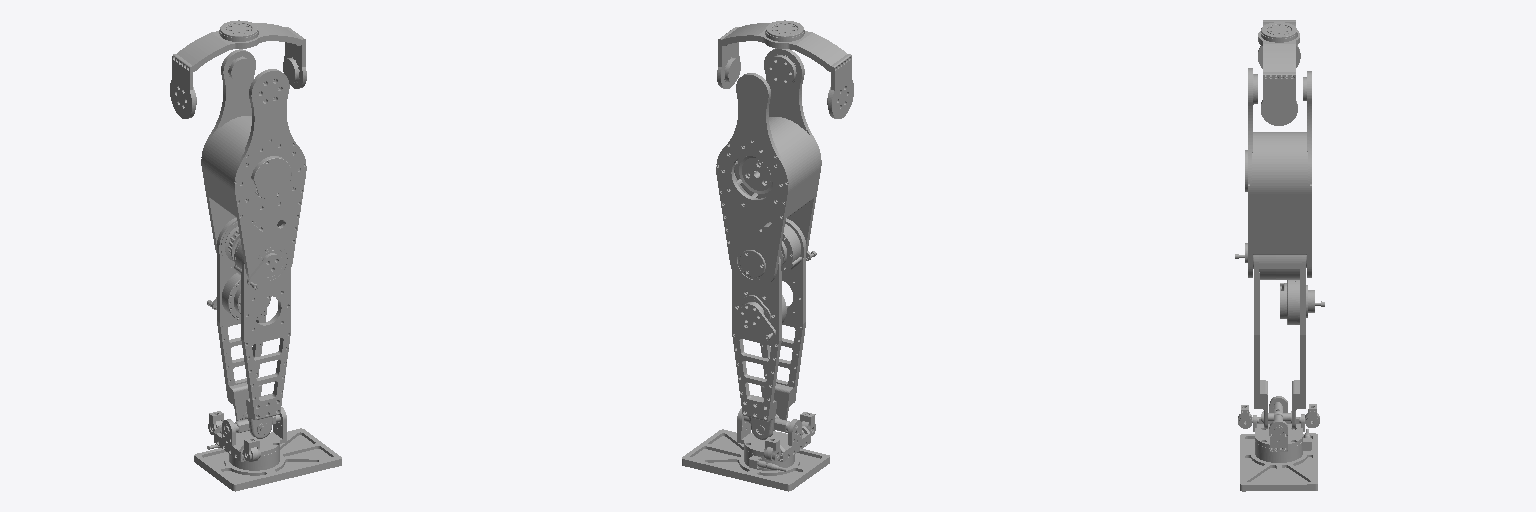
The robot description file, URDF, robot "total_robot_nl":
<?xml version="1.0" ?>
<robot name="total_robot_nl" xmlns:xacro="http://www.ros.org/wiki/xacro">
<!-- 
<link name = "base_link">
  <inertial>
    <origin xyz="0 0 0" rpy="0 0 0"/>
    <mass value="0"/>
    <inertia ixx="0" iyy="0" izz="0" ixy="0" iyz="0" ixz="0"/>
  </inertial>
  <visual>
    <origin xyz="0 0 0" rpy="0 0 0"/>
    <geometry>
      <box size="0.01 0.01 0.01"/>
    </geometry>
  </visual>
</link> -->
<link name="world"/>
  
<link name="base_link">
  <inertial>
    <origin xyz="-0.0032551439878857943 -1.9999997873110242e-07 -0.04529620573945425" rpy="0 0 0"/>
    <mass value="0.6322493948478245"/>
    <inertia ixx="0.001017" iyy="0.004505" izz="0.003813" ixy="-0.0" iyz="-0.0" ixz="-0.000121"/>
  </inertial>
  <visual>
    <origin xyz="0.015291 -0.105 -0.007699" rpy="0 0 0"/>
    <geometry>
      <mesh filename="package://ik_test/meshes/left_yaw_1_1_1.stl" scale="0.001 0.001 0.001"/>
    </geometry>
    <material name="silver">
      <color rgba="0.700 0.700 0.700 1.000"/>
    </material>
  </visual>
</link>

<link name="left_hip_rp_1_1_1">
  <!-- <inertial>
    <origin xyz="0.197224872 0.0019294190715901938 9.221403702634745e-05" rpy="0 0 0"/>
    <mass value="3.4935634589938322"/>
    <inertia ixx="0.004865" iyy="0.013016" izz="0.012468" ixy="-0.000209" iyz="2.4e-05" ixz="-3.8e-05"/>
  </inertial> -->
  <inertial>
    <origin xyz="-0.000275128 0.0019294190715901938 9.221403702634745e-05" rpy="0 0 0"/>
    <mass value="3.4935634589938322"/>
    <inertia ixx="0.004865" iyy="0.013016" izz="0.012468" ixy="-0.000209" iyz="2.4e-05" ixz="-3.8e-05"/>
  </inertial>
  <visual>
    <origin xyz="0.015291 -0.105 0.088357" rpy="0 0 0"/>
    <geometry>
      <mesh filename="package://ik_test/meshes/left_hip_rp_1_1_1.stl" scale="0.001 0.001 0.001"/>
    </geometry>
    <material name="silver">
      <color rgba="0.700 0.700 0.700 1.000"/>
    </material>
  </visual>
</link>

<link name="left_upper_link_1_1_1">
  <inertial>
    <origin xyz="0.0005368519739045955 -0.013754235 -0.15022534580925995" rpy="0 0 0"/>
    <mass value="3.2234265717066637"/>
    <inertia ixx="0.017939" iyy="0.016979" izz="0.00754" ixy="-2.3e-05" iyz="0.000318" ixz="0.000252"/>
  </inertial>
  <visual>
    <origin xyz="-0.012959 -0.11025 0.088358" rpy="0 0 0"/>
    <geometry>
      <mesh filename="package://ik_test/meshes/left_upper_link_1_1_1.stl" scale="0.001 0.001 0.001"/>
    </geometry>
    <material name="silver">
      <color rgba="0.700 0.700 0.700 1.000"/>
    </material>
  </visual>
  <collision>
    <geometry>
      <sphere radius="0.06"/> 
    </geometry>
    <origin xyz="0 0.00075 -0.3" rpy="0 0 0"/>
  </collision>
</link>

<link name="left_lower_link_1_1_1">
  <inertial>
    <origin xyz="4.6165273849790855e-05 0.006328049 -0.07736569907214441" rpy="0 0 0"/>
    <mass value="2.17378151180509"/>
    <inertia ixx="0.020231" iyy="0.018702" izz="0.003549" ixy="-3e-06" iyz="0.000559" ixz="-3.7e-05"/>
  </inertial>
  <visual>
    <origin xyz="-0.012959 -0.106762 0.388359" rpy="0 0 0"/>
    <geometry>
      <mesh filename="package://ik_test/meshes/left_lower_link_1_1_1.stl" scale="0.001 0.001 0.001"/>
    </geometry>
    <material name="silver">
      <color rgba="0.700 0.700 0.700 1.000"/>
    </material>
  </visual>
</link>

<link name="left_ankle_1_1_1">
  <inertial>
    <origin xyz="-5.379963106347946e-07 -0.000000102 2.7555327962835996e-05" rpy="0 0 0"/>
    <mass value="0.09508662408365151"/>
    <inertia ixx="1.3e-05" iyy="6.1e-05" izz="6.9e-05" ixy="-0.0" iyz="0.0" ixz="0.0"/>
  </inertial>
  <visual>
    <origin xyz="-0.012959 -0.110275 0.688358" rpy="0 0 0"/>
    <geometry>
      <mesh filename="package://ik_test/meshes/left_ankle_1_1_1.stl" scale="0.001 0.001 0.001"/>
    </geometry>
    <material name="silver">
      <color rgba="0.700 0.700 0.700 1.000"/>
    </material>
  </visual>
</link>

<link name="left_foot_1_1_1">
  <inertial>
    <origin xyz="0.005144916 0.001279712439850464 -0.05369204517562853" rpy="0 0 0"/>
    <mass value="0.7654264928180347"/>
    <inertia ixx="0.001068" iyy="0.001832" izz="0.002288" ixy="1.2e-05" iyz="-6e-06" ixz="0.000215"/>
  </inertial>
  <visual>
    <origin xyz="-0.012959 -0.110275 0.688357" rpy="0 0 0"/>
    <geometry>
      <mesh filename="package://ik_test/meshes/left_foot_1_1_1.stl" scale="0.001 0.001 0.001"/>
    </geometry>
    <material name="silver">
      <color rgba="0.700 0.700 0.700 1.000"/>
    </material>
  </visual>
  <collision>
    <geometry>
      <box size="0.2 0.13 0.012"/>
    </geometry>
    <origin xyz="0.025 0.0005 -0.071" rpy="0.0079 0 0"/>
  </collision>
</link>




<!-- <joint name="base_joint" type="prismatic">
  <origin xyz="0 0 0" rpy="0 0 0"/>
  <parent link="base_link"/>
  <child link="left_yaw_1_1_1"/>
  <axis xyz="0.0 0.0 1.0"/>
  <limit upper="0" lower="0" effort="100" velocity="1000"/>
</joint> -->

<joint name="base_joint" type="revolute">
  <parent link="world"/>
  <child link="base_link"/>
  <origin xyz="0 0 0" rpy="0 0 0"/>
  <axis xyz="0.0 0.0 1.0"/>
  <limit upper="1.570796" lower="-1.570796" effort="40" velocity="4.188790204786399"/>
</joint>

<joint name="hip_roll_left" type="revolute">
  <origin xyz="0.0 0.0 -0.096056" rpy="0 0 0"/>
  <parent link="base_link"/>
  <child link="left_hip_rp_1_1_1"/>
  <axis xyz="-1.0 0.0 0.0"/>
  <limit upper="1.570796" lower="-0.523599" effort="40" velocity="4.188790204786399"/>
</joint>

<joint name="hip_pitch_left" type="revolute">
  <origin xyz="0.02825 0.00175 0" rpy="0 0 0"/>
  <parent link="left_hip_rp_1_1_1"/>
  <child link="left_upper_link_1_1_1"/>
  <axis xyz="0.0 1.0 0"/>
  <limit upper="1.745329" lower="-0.471239" effort="65" velocity="5.236"/>
</joint>

<joint name="knee_left" type="revolute">
  <origin xyz="0.0 -0.003988 -0.3" rpy="0 0 0"/>
  <parent link="left_upper_link_1_1_1"/>
  <child link="left_lower_link_1_1_1"/>
  <axis xyz="0.0 -1.0 0"/>
  <limit upper="2.094395" lower="0.0" effort="65" velocity="5.236"/>
</joint>

<joint name="ankle_pitch_left" type="revolute">
  <origin xyz="0.0 0.000263 -0.3" rpy="0 0 0"/>
  <parent link="left_lower_link_1_1_1"/>
  <child link="left_ankle_1_1_1"/>
  <axis xyz="-0.0 1.0 0"/>
  <limit upper="1.047197551" lower="-0.785398" effort="8" velocity="41.88790204786399"/>
</joint>

<joint name="ankle_roll_left" type="revolute">
  <origin xyz="0.0 0.00125 0.0" rpy="0 0 0"/>
  <parent link="left_ankle_1_1_1"/>
  <child link="left_foot_1_1_1"/>
  <axis xyz="1.0 0.0 0.0"/>
  <limit upper="0.785398" lower="-0.785398" effort="8" velocity="41.88790204786399"/>
</joint>


<!-- <joint name="hip_roll_left" type="revolute">
  <origin xyz="-0.09875 0.0 -0.096056" rpy="0 0 0"/>
  <parent link="base_link"/>
  <child link="left_hip_rp_1_1_1"/>
  <axis xyz="1.0 0.0 -0.0"/>
  <limit upper="1.570796" lower="-0.523599" effort="40" velocity="4.188790204786399"/>
</joint>

<joint name="hip_pitch_left" type="revolute">
  <origin xyz="0.127 -0.039 -1e-06" rpy="0 0 0"/>
  <parent link="left_hip_rp_1_1_1"/>
  <child link="left_upper_link_1_1_1"/>
  <axis xyz="0.0 -1.0 -4.1e-05"/>
  <limit upper="1.745329" lower="-0.471239" effort="65" velocity="5.236"/>
</joint>

<joint name="knee_left" type="revolute">
  <origin xyz="0.0 -0.007488 -0.300001" rpy="0 0 0"/>
  <parent link="left_upper_link_1_1_1"/>
  <child link="left_lower_link_1_1_1"/>
  <axis xyz="-0.0 1.0 4.1e-05"/>
  <limit upper="2.094395" lower="0.0" effort="65" velocity="5.236"/>
</joint>

<joint name="ankle_pitch_left" type="revolute">
  <origin xyz="0.0 0.026013 -0.299999" rpy="0 0 0"/>
  <parent link="left_lower_link_1_1_1"/>
  <child link="left_ankle_1_1_1"/>
  <axis xyz="-0.0 -1.0 4.1e-05"/>
  <limit upper="1.047197551" lower="-0.785398" effort="8" velocity="41.88790204786399"/>
</joint>

<joint name="ankle_roll_left" type="revolute">
  <origin xyz="-0.049 0.02575 1e-06" rpy="0 0 0"/>
  <parent link="left_ankle_1_1_1"/>
  <child link="left_foot_1_1_1"/>
  <axis xyz="1.0 0.0 0.0"/>
  <limit upper="0.785398" lower="-0.785398" effort="8" velocity="41.88790204786399"/>
</joint> -->

</robot>

--- Facts derived from the render (not from the file) ---
3 views of the same robot in one strip: view 1: azimuth 30°, elevation 25°; view 2: azimuth 150°, elevation 25°; view 3: azimuth 270°, elevation 25° (orthographic).
Robot: total_robot_nl — 7 links, 6 joints (6 revolute); root link world; default pose: every joint at zero.
Visible links, largest first — view 1: left_upper_link_1_1_1, left_lower_link_1_1_1, left_foot_1_1_1, base_link; view 2: left_upper_link_1_1_1, left_lower_link_1_1_1, left_foot_1_1_1, base_link; view 3: left_upper_link_1_1_1, left_foot_1_1_1, left_lower_link_1_1_1, base_link.
Link boxes in pixels (x1,y1,x2,y2): left_upper_link_1_1_1: (201,49,306,286); left_lower_link_1_1_1: (207,218,290,438); left_foot_1_1_1: (194,407,341,491); base_link: (170,20,306,118); left_upper_link_1_1_1: (716,48,821,287); left_lower_link_1_1_1: (732,218,816,439); left_foot_1_1_1: (682,408,829,491); base_link: (717,20,853,118); left_upper_link_1_1_1: (1245,68,1311,277); left_foot_1_1_1: (1238,396,1319,491); left_lower_link_1_1_1: (1235,243,1324,428); base_link: (1258,20,1300,125).
Bounding box of the posed robot: 0.2595 × 0.1499 × 0.7736 m (x, y, z).
Meshes: 6 distinct files referenced, 5 mesh visuals loaded (5 binary STL); not drawn: 1 (reference not matched to a file when rendering).
